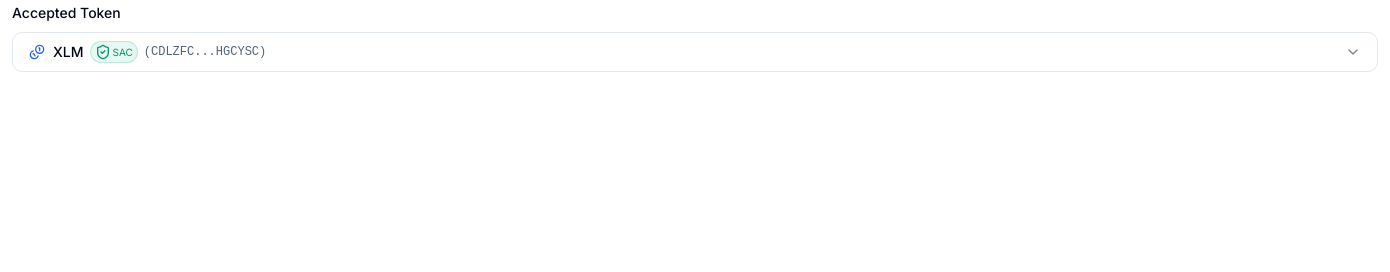
TokenSelector › Change Handler Invocation
Later steps or results of the test are not shown.
Note: Open the dropdown. Since a token is selected, the button contains the symbol text.
What coordinates should you click on to do the following:
click the button "XLM SAC (CDLZFC...HGCYSC)"
I would click on:
 (68, 52)
Its box is [12, 32, 1378, 72].
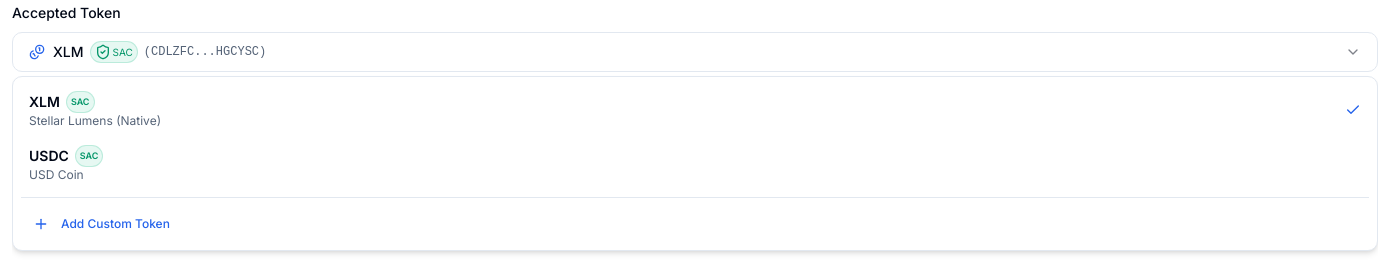
Now the button "USDC SAC USD Coin" is shown, box [21, 139, 1369, 189]
